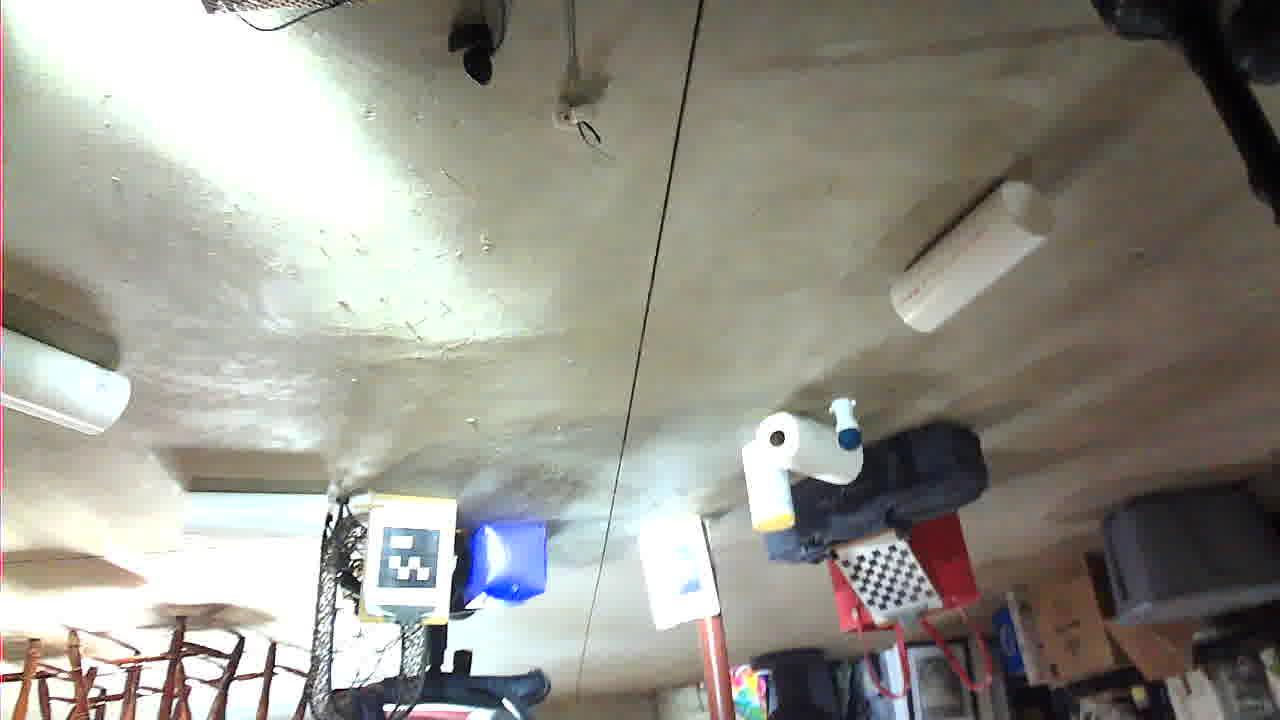coral: (224, 387, 390, 541), (1150, 287, 1280, 388), (956, 180, 1097, 225)
